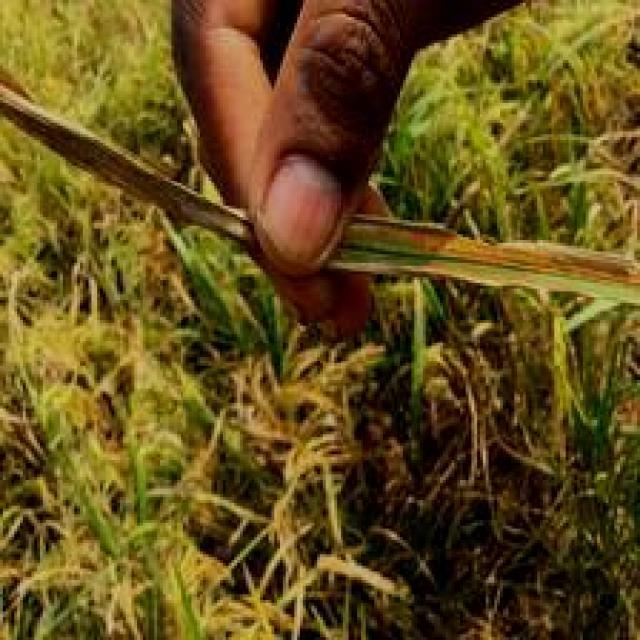Rice_Bacterial_Blight: (17, 80, 634, 337)
